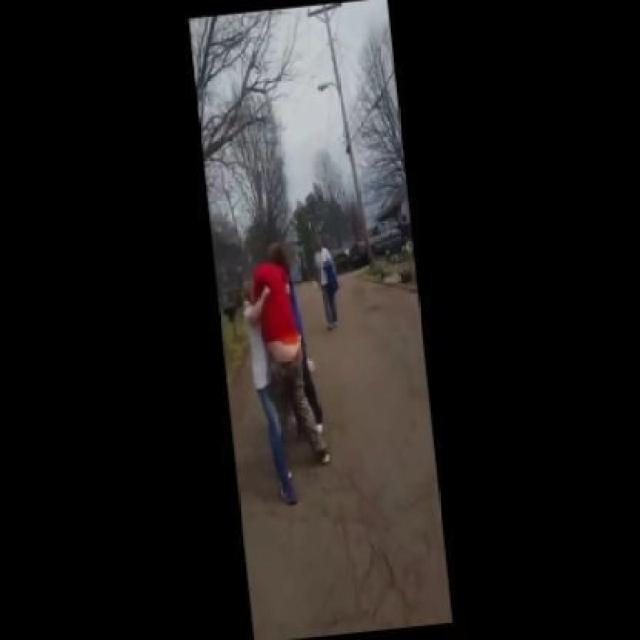fight: (238, 243, 332, 508)
non-fight: (308, 242, 342, 332)
